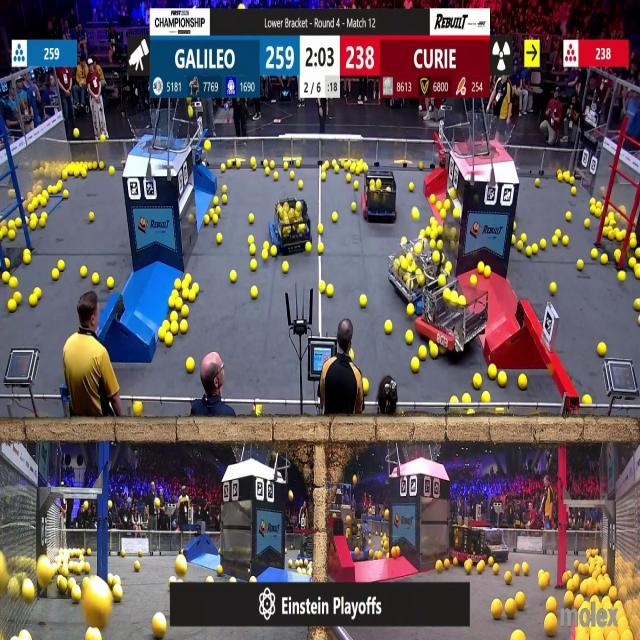ball_airborne: (187, 106, 193, 118), (154, 498, 159, 507)
ball_ground: (152, 616, 166, 638), (544, 616, 556, 638), (24, 583, 36, 603), (176, 557, 186, 576), (492, 600, 502, 619), (505, 601, 515, 618), (72, 588, 82, 604), (517, 593, 526, 610), (545, 598, 555, 612), (113, 587, 122, 602), (134, 403, 143, 418), (538, 574, 546, 590), (88, 629, 99, 640), (519, 375, 527, 390), (186, 357, 194, 372), (412, 357, 420, 372), (598, 343, 606, 357), (498, 373, 506, 387), (472, 375, 480, 389), (489, 364, 497, 378), (420, 346, 428, 360), (608, 588, 616, 602), (513, 631, 525, 640), (24, 250, 32, 263), (429, 346, 437, 359), (564, 595, 572, 608), (385, 320, 392, 334), (180, 320, 187, 334), (250, 286, 258, 298), (107, 278, 115, 290), (30, 294, 38, 306), (464, 562, 472, 574), (180, 307, 188, 319), (629, 236, 637, 248), (82, 562, 90, 574), (20, 632, 32, 640), (359, 294, 366, 307), (407, 332, 414, 345), (435, 560, 442, 573), (483, 391, 491, 402), (8, 301, 16, 312), (2, 273, 10, 284), (166, 335, 173, 347), (413, 208, 420, 220), (504, 571, 511, 583), (533, 242, 540, 254), (362, 380, 368, 394), (629, 256, 636, 268), (479, 562, 486, 574), (462, 393, 470, 403), (9, 278, 17, 288), (170, 312, 178, 322), (584, 394, 592, 404), (190, 283, 198, 293), (616, 231, 624, 241), (326, 284, 332, 297), (576, 261, 583, 272), (231, 272, 238, 283), (59, 262, 66, 273), (93, 274, 100, 285), (30, 219, 37, 230), (515, 563, 522, 574), (551, 282, 557, 294), (523, 562, 529, 574), (169, 296, 175, 308), (164, 320, 172, 329), (319, 282, 325, 294), (492, 564, 500, 573), (479, 265, 485, 277), (182, 288, 188, 300), (601, 254, 608, 264), (591, 249, 598, 259), (249, 245, 256, 255), (51, 270, 58, 280), (34, 288, 41, 298), (317, 244, 324, 254), (172, 322, 179, 332), (8, 231, 15, 241), (254, 407, 261, 417), (188, 291, 195, 301), (450, 188, 457, 198), (113, 574, 120, 584), (446, 264, 453, 274), (175, 300, 182, 310), (348, 350, 355, 360), (438, 241, 445, 251), (430, 230, 437, 240), (250, 261, 256, 272), (216, 234, 222, 245), (485, 268, 491, 279), (408, 306, 414, 317), (445, 559, 451, 570), (14, 292, 20, 303), (526, 245, 532, 256), (172, 289, 180, 297), (556, 174, 564, 182), (108, 167, 115, 176), (187, 214, 194, 223), (595, 208, 602, 217), (589, 206, 596, 215), (40, 198, 47, 207), (454, 209, 461, 218), (283, 264, 289, 274), (620, 272, 626, 282), (563, 236, 569, 246), (217, 565, 223, 575), (331, 212, 337, 222), (80, 268, 86, 278), (272, 246, 278, 256), (306, 243, 312, 253), (470, 276, 476, 286), (635, 297, 640, 309), (134, 562, 140, 572), (175, 280, 181, 290), (108, 574, 114, 584), (14, 218, 20, 228), (318, 223, 324, 233), (250, 160, 256, 170), (160, 327, 166, 337), (616, 250, 622, 260), (58, 180, 64, 190), (0, 229, 5, 241), (250, 575, 257, 583), (4, 257, 9, 268), (540, 240, 546, 249), (204, 215, 210, 224), (184, 274, 190, 283), (248, 236, 254, 245), (212, 214, 218, 223), (213, 199, 219, 208), (40, 218, 46, 227), (445, 201, 451, 210), (429, 193, 435, 202), (356, 167, 362, 176), (452, 559, 458, 568), (226, 161, 232, 170), (430, 241, 436, 250), (602, 227, 608, 236), (331, 161, 337, 170), (74, 169, 80, 178), (90, 212, 95, 222), (516, 239, 521, 249), (264, 250, 269, 260), (635, 270, 640, 280), (442, 208, 447, 218), (420, 231, 427, 238), (553, 238, 559, 246), (248, 214, 254, 222), (207, 575, 213, 583), (236, 162, 242, 170), (435, 202, 441, 210), (221, 194, 227, 202), (496, 410, 504, 416), (323, 164, 329, 172), (555, 230, 561, 238), (452, 396, 458, 404), (80, 170, 86, 178), (210, 208, 216, 216), (270, 162, 276, 170), (8, 220, 14, 228), (40, 212, 46, 220), (64, 189, 69, 198), (571, 186, 576, 195), (566, 213, 571, 222), (569, 174, 574, 183), (231, 576, 237, 583), (352, 203, 356, 213), (586, 218, 590, 228), (354, 181, 359, 189), (347, 174, 352, 182), (419, 163, 424, 171), (266, 168, 271, 176), (274, 172, 279, 180), (220, 165, 225, 173), (512, 236, 517, 244), (100, 162, 105, 170), (295, 160, 300, 168), (289, 172, 294, 180), (215, 207, 220, 215), (222, 184, 227, 192), (336, 167, 341, 175), (596, 201, 601, 209), (489, 558, 494, 566), (430, 217, 435, 225), (265, 162, 270, 170), (410, 182, 414, 191), (298, 180, 302, 189), (535, 178, 539, 187), (635, 248, 639, 257), (522, 235, 527, 242), (284, 164, 289, 171), (101, 136, 106, 143), (288, 561, 293, 568), (437, 225, 442, 232), (321, 173, 325, 181), (48, 185, 52, 193), (265, 242, 270, 248), (467, 411, 473, 416), (386, 554, 391, 560), (401, 238, 405, 245), (120, 552, 124, 558), (514, 222, 518, 228), (138, 552, 142, 558), (240, 4, 244, 10), (170, 576, 173, 583)
goal: (460, 119, 517, 158), (129, 116, 186, 151)
robot_blue: (388, 248, 434, 310), (270, 200, 313, 256)
robot_red: (422, 274, 490, 352), (364, 165, 398, 220), (448, 522, 492, 563)
